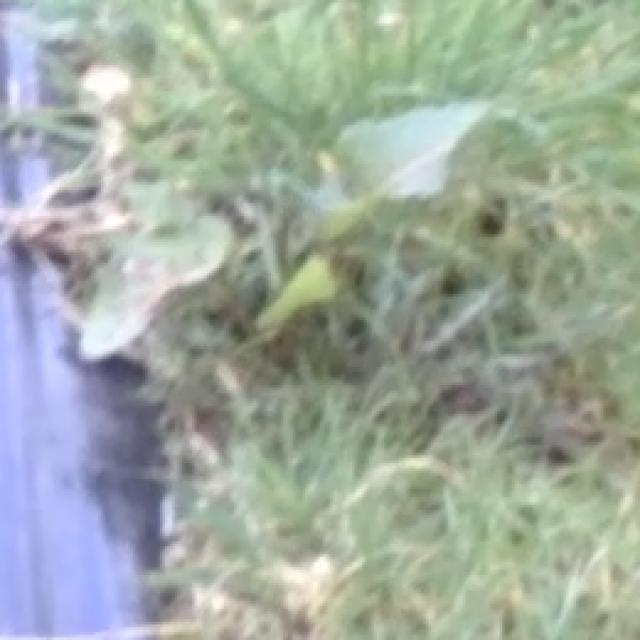organic waste: (73, 99, 532, 334)
